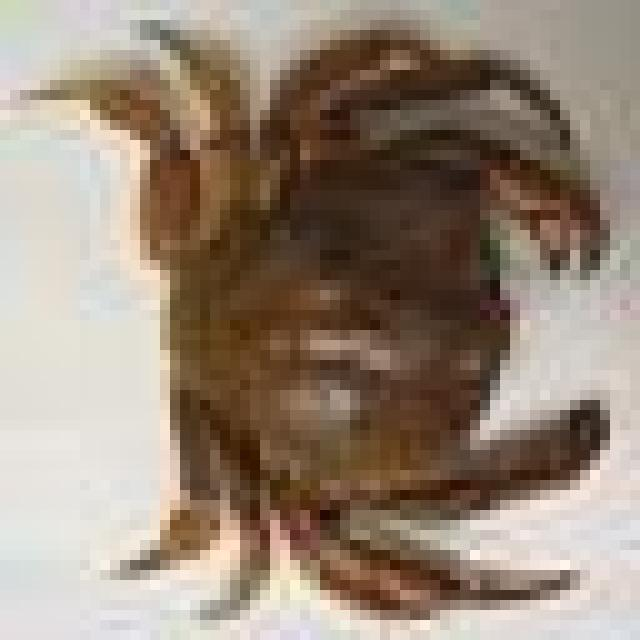Native Rock crab: (40, 20, 600, 610)
